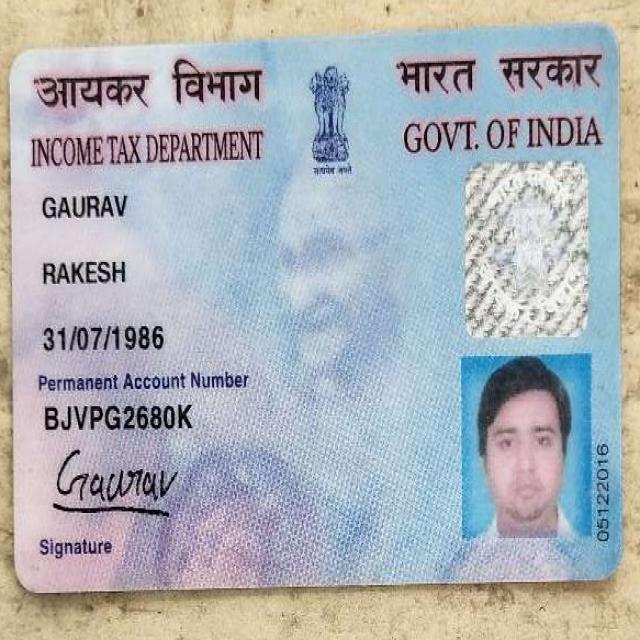pan_card: (7, 27, 622, 592)
